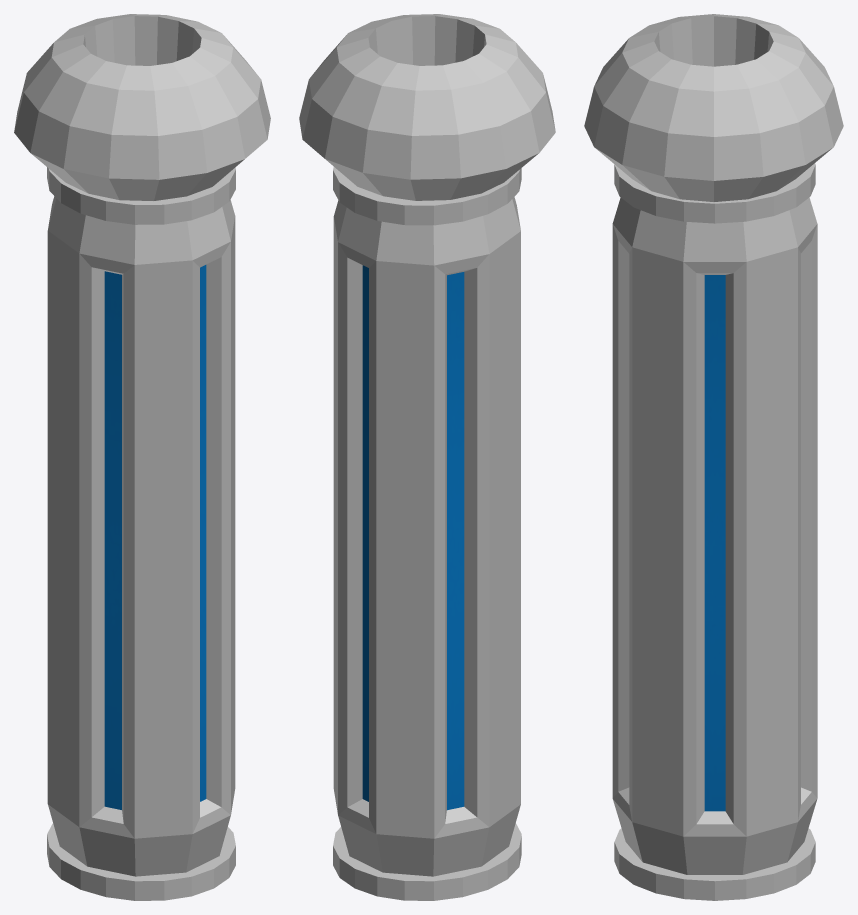
Rendered from Monument_tower.fbx.
3 renders of one model, left to right at view 1: azimuth 30°, elevation 25°; view 2: azimuth 150°, elevation 25°; view 3: azimuth 270°, elevation 25°, orthographic.
Visible parts, largest first — view 1: Monument_tower; view 2: Monument_tower; view 3: Monument_tower.
Boxes of the visible parts, x1,y1,x2,y2 form: Monument_tower: (14, 14, 270, 900); Monument_tower: (299, 14, 555, 900); Monument_tower: (584, 14, 843, 900).
Size of the model in its own units: 6.42 by 22.41 by 6.42.
